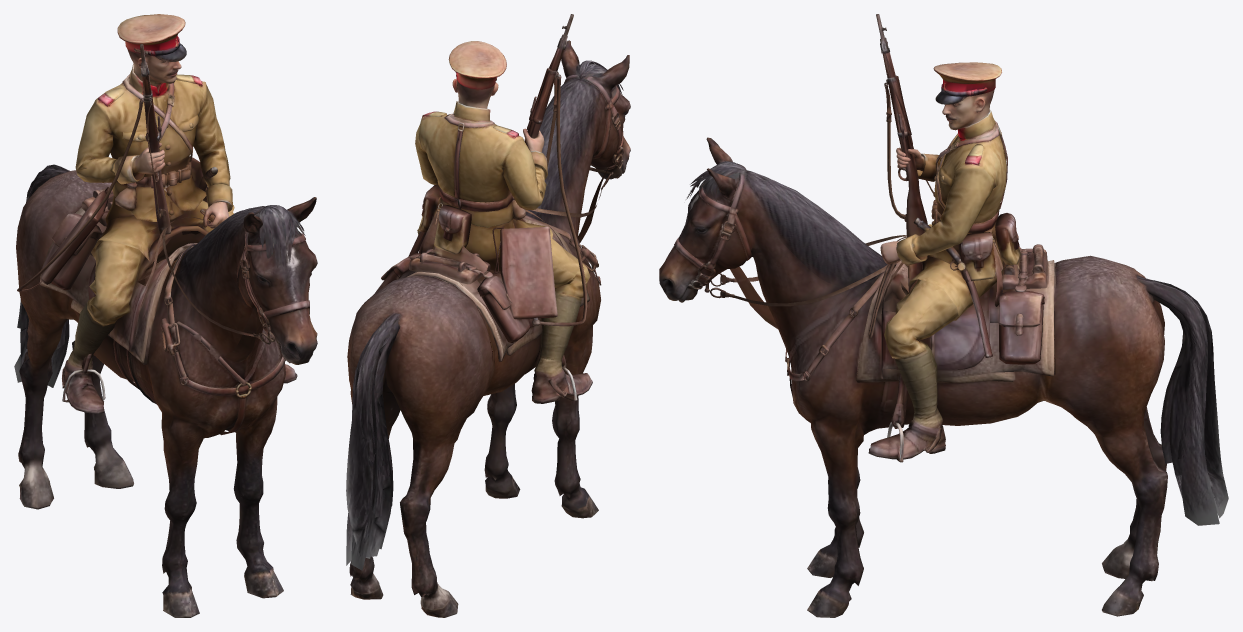
The model's file is soldier_4-6d8279d362.glb.
3 renders of one model, left to right at view 1: azimuth 30°, elevation 25°; view 2: azimuth 150°, elevation 25°; view 3: azimuth 270°, elevation 25°, orthographic. The views are drawn at different scales.
Visible parts, largest first — view 1: tripo_node_1a748264-da26-4b68-b2b4-c31b13835140; view 2: tripo_node_1a748264-da26-4b68-b2b4-c31b13835140; view 3: tripo_node_1a748264-da26-4b68-b2b4-c31b13835140.
Part boxes in pixels (bbox=[...]): tripo_node_1a748264-da26-4b68-b2b4-c31b13835140: bbox=[14, 14, 317, 617]; tripo_node_1a748264-da26-4b68-b2b4-c31b13835140: bbox=[346, 14, 630, 617]; tripo_node_1a748264-da26-4b68-b2b4-c31b13835140: bbox=[659, 14, 1228, 617].
Size of the model in its own units: 0.4262 by 0.9995 by 0.939.
1 material, 1 textured.
